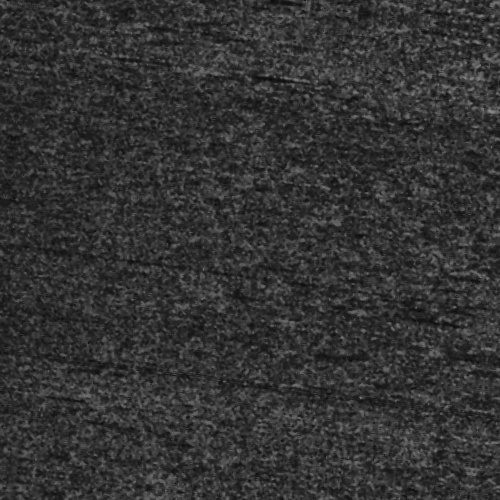object: (170, 71, 243, 76)
shadow: (207, 71, 278, 76)
